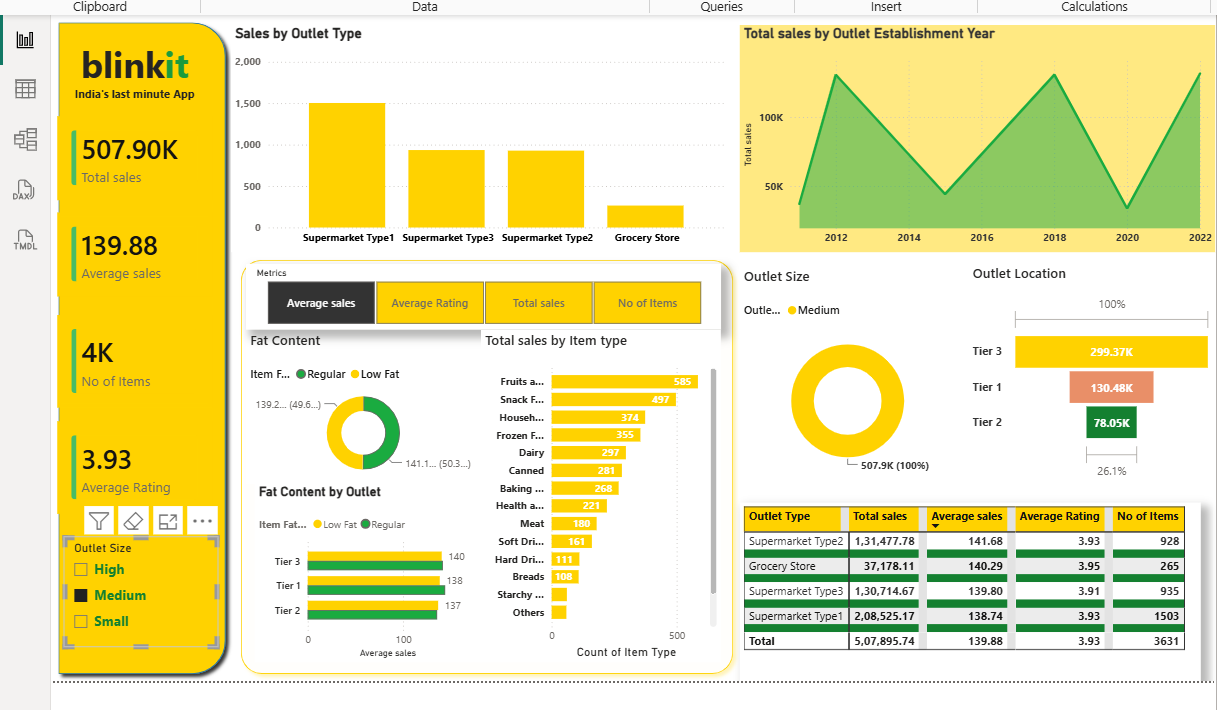

The page's visual inventory and layout, read from the dashboard file:
{"tool":"powerbi","page":{"name":"Page 2","canvas":[1400,800],"ordinal":0},"visuals":[{"type":"shape","box":[0,0,218.8,800.3],"z":0},{"type":"textbox","box":[0,24.5,201.1,137.2],"z":1000},{"type":"shape","box":[218.8,285.3,608.7,514.9],"z":3000},{"type":"donutChart","title":"Fat Content","fields":{"Category":["BlinkIT Grocery Data (2).Item Fat Content"],"Y":["BlinkIT Grocery Data (2).Average sales"]},"box":[234.1,378.2,282.2,184.6],"z":4000},{"type":"slicer","fields":{"Values":["Metrics.Metrics"]},"box":[233.7,298.9,570.7,78.8],"z":5000},{"type":"clusteredBarChart","title":"Fat Content by Outlet","fields":{"Category":["BlinkIT Grocery Data (2).Outlet Location Type"],"Series":["BlinkIT Grocery Data (2).Item Fat Content"],"Y":["BlinkIT Grocery Data (2).Average sales"]},"box":[244.6,562.5,271.7,214.7],"z":6000},{"type":"barChart","title":"Total sales by Item type","fields":{"Category":["BlinkIT Grocery Data (2).Item Type"],"Y":["CountNonNull(BlinkIT Grocery Data (2).Item Type)"]},"box":[516.3,378.2,288.2,399.2],"z":7000},{"type":"lineChart","fields":{"Category":["BlinkIT Grocery Data (2).Outlet Establishment Year"],"Y":["BlinkIT Grocery Data (2).Total sales"]},"box":[827,12,571.8,273.2],"z":8000},{"type":"donutChart","title":" Outlet Size","fields":{"Category":["BlinkIT Grocery Data (2).Outlet Size"],"Y":["BlinkIT Grocery Data (2).Total sales"]},"box":[827.5,301.6,259.5,260.9],"z":9000},{"type":"funnel","title":" Outlet Location ","fields":{"Category":["BlinkIT Grocery Data (2).Outlet Location Type"],"Y":["BlinkIT Grocery Data (2).Total sales"]},"box":[1101.9,298.9,297.6,263.6],"z":10000},{"type":"pivotTable","fields":{"Rows":["BlinkIT Grocery Data (2).Outlet Type"],"Values":["BlinkIT Grocery Data (2).Total sales","BlinkIT Grocery Data (2).Average sales","BlinkIT Grocery Data (2).Average Rating","BlinkIT Grocery Data (2).No of Items"]},"box":[827,585.3,553.8,214.6],"z":11000},{"type":"slicer","fields":{"Values":["BlinkIT Grocery Data (2).Outlet Size"]},"box":[15,625.9,186.1,133.6],"z":12000},{"type":"cardVisual","fields":{"Data":["BlinkIT Grocery Data (2).Total sales"]},"box":[7.5,121.6,186.1,100.6],"z":13000},{"type":"cardVisual","fields":{"Data":["BlinkIT Grocery Data (2).Average sales"]},"box":[7.5,237.1,186.1,100.6],"z":14000},{"type":"cardVisual","fields":{"Data":["BlinkIT Grocery Data (2).No of Items"]},"box":[7.5,360.2,186.1,111.1],"z":15000},{"type":"cardVisual","fields":{"Data":["BlinkIT Grocery Data (2).Average Rating"]},"box":[7.5,487.8,186.1,111.1],"z":16000},{"type":"columnChart","title":" Sales by Outlet Type","fields":{"Category":["BlinkIT Grocery Data (2).Outlet Type"],"Y":["CountNonNull(BlinkIT Grocery Data (2).Sales)"]},"box":[216.1,12,600.3,273.2],"z":17000}]}

Visuals, with their boxes on the page's 1400x800 design canvas (x1, y1, x2, y2). These are canvas units, not pixel positions in the 1217x710 screenshot, which may show the page scaled, cropped or inside an application window:
shape: <region>0, 0, 219, 800</region>
textbox: <region>0, 24, 201, 162</region>
shape: <region>219, 285, 828, 800</region>
"Fat Content" donutChart: <region>234, 378, 516, 563</region>
slicer - Metrics.Metrics: <region>234, 299, 804, 378</region>
"Fat Content by Outlet" clusteredBarChart: <region>245, 562, 516, 777</region>
"Total sales by Item type" barChart: <region>516, 378, 804, 777</region>
lineChart - BlinkIT Grocery Data (2).Outlet Establishment Year x BlinkIT Grocery Data (2).Total sales: <region>827, 12, 1399, 285</region>
" Outlet Size" donutChart: <region>828, 302, 1087, 562</region>
" Outlet Location " funnel: <region>1102, 299, 1400, 562</region>
pivotTable - BlinkIT Grocery Data (2).Outlet Type x BlinkIT Grocery Data (2).Total sales: <region>827, 585, 1381, 800</region>
slicer - BlinkIT Grocery Data (2).Outlet Size: <region>15, 626, 201, 760</region>
cardVisual - BlinkIT Grocery Data (2).Total sales: <region>8, 122, 194, 222</region>
cardVisual - BlinkIT Grocery Data (2).Average sales: <region>8, 237, 194, 338</region>
cardVisual - BlinkIT Grocery Data (2).No of Items: <region>8, 360, 194, 471</region>
cardVisual - BlinkIT Grocery Data (2).Average Rating: <region>8, 488, 194, 599</region>
" Sales by Outlet Type" columnChart: <region>216, 12, 816, 285</region>
